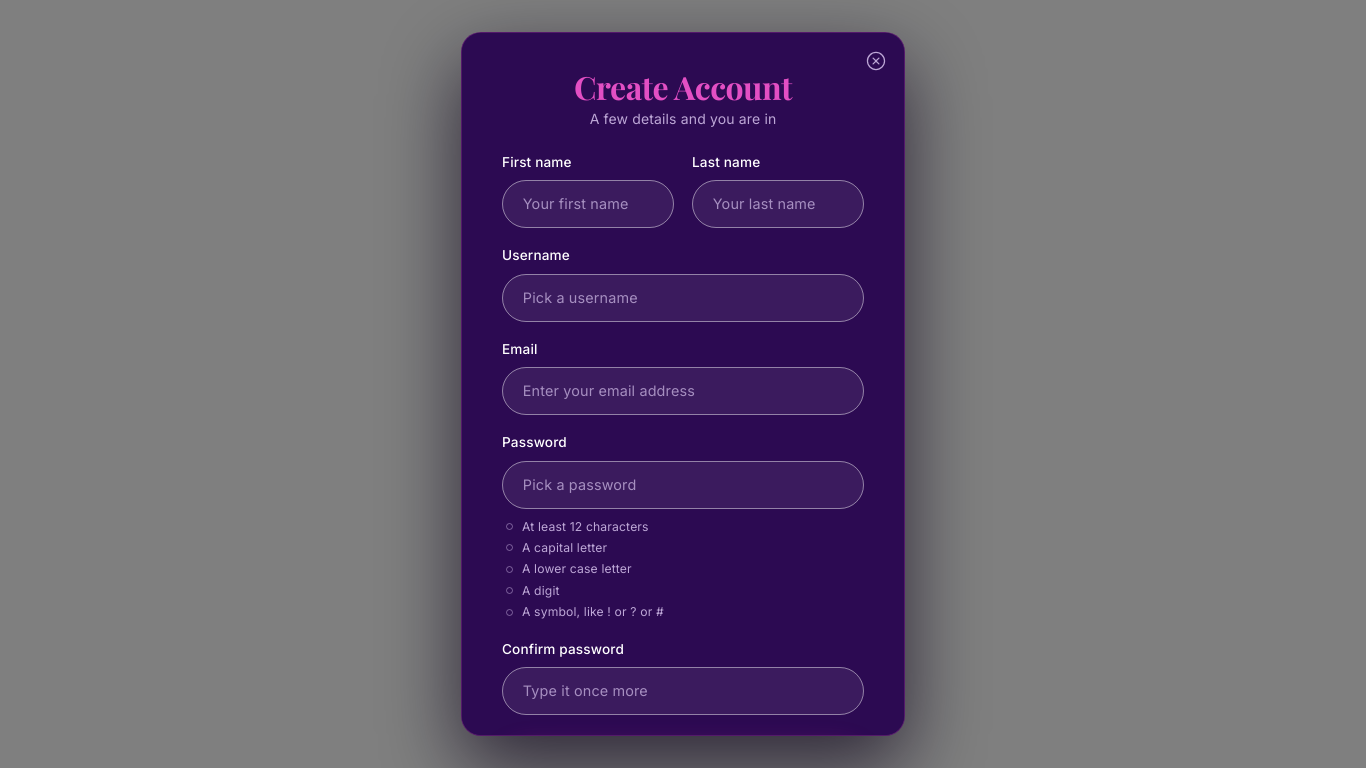
Test case: what it refuses to send › takes back what it said about a box once it is being typed in
Type "Marcus" into the field labelled "First name" at point(588, 204), box [502,180,674,228]
Type "Wright" into the field labelled "Last name" at point(778, 204), box [692,180,864,228]
Type "me" into the field labelled "Username" at point(683, 298), box [502,274,864,322]
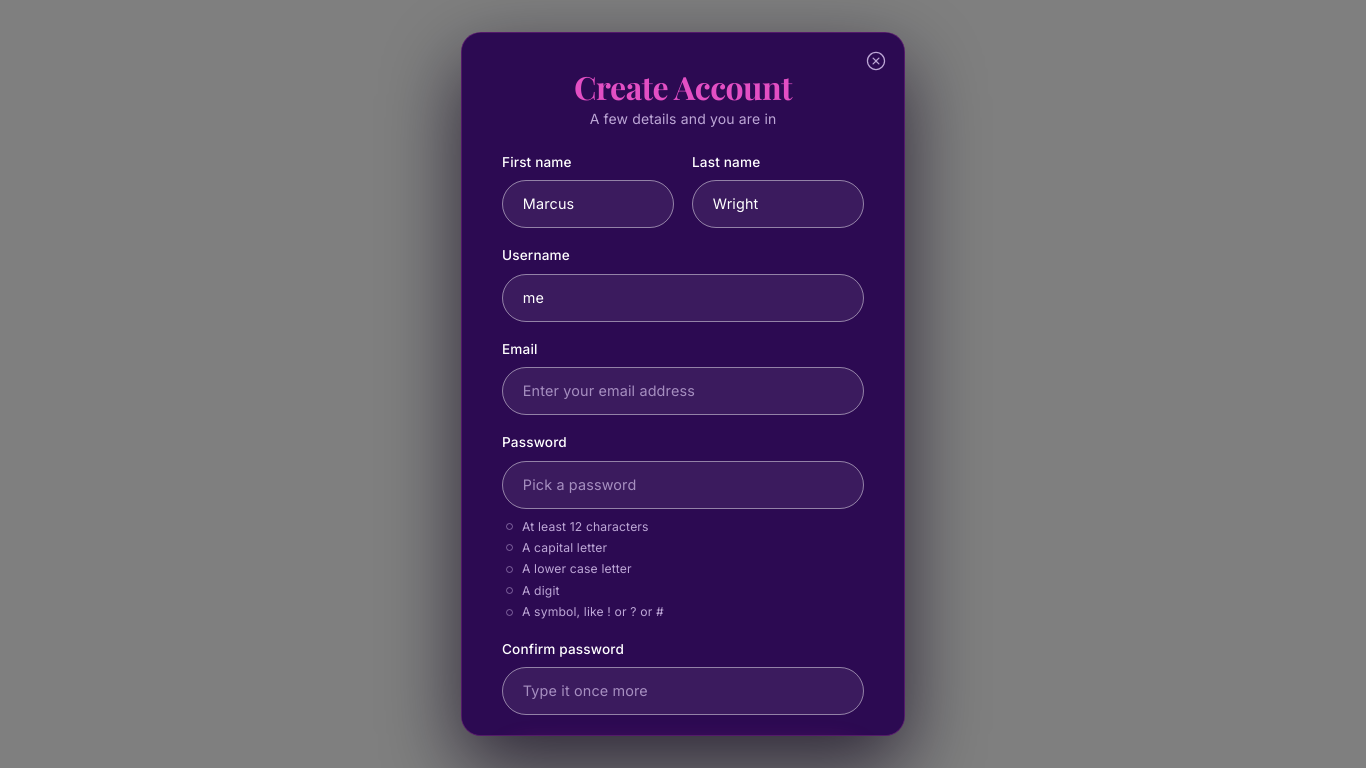
Type "marcus@example.test" into the field labelled "Email" at point(683, 391), box [502,367,864,415]
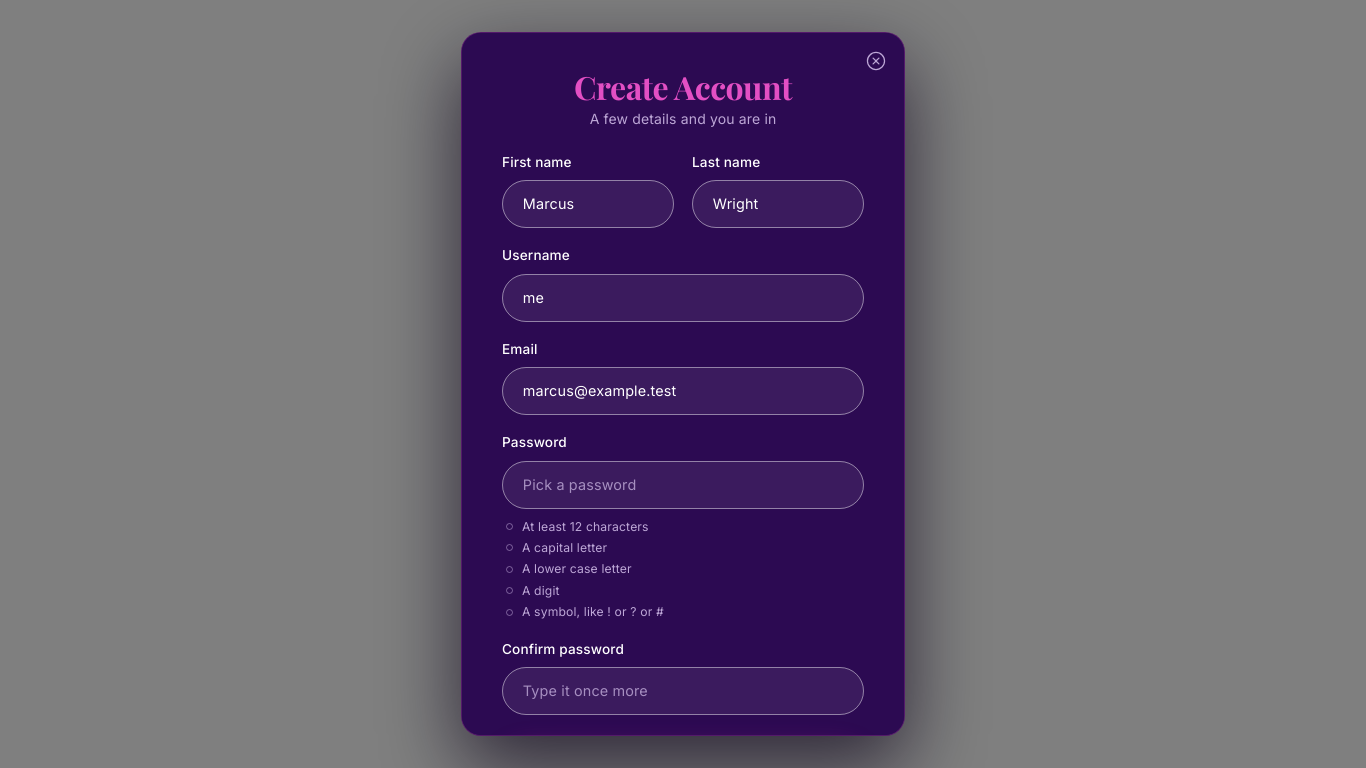
Type "Trombone-42-Fig" into the password field labelled "Password" at point(683, 485), box [502,461,864,509]
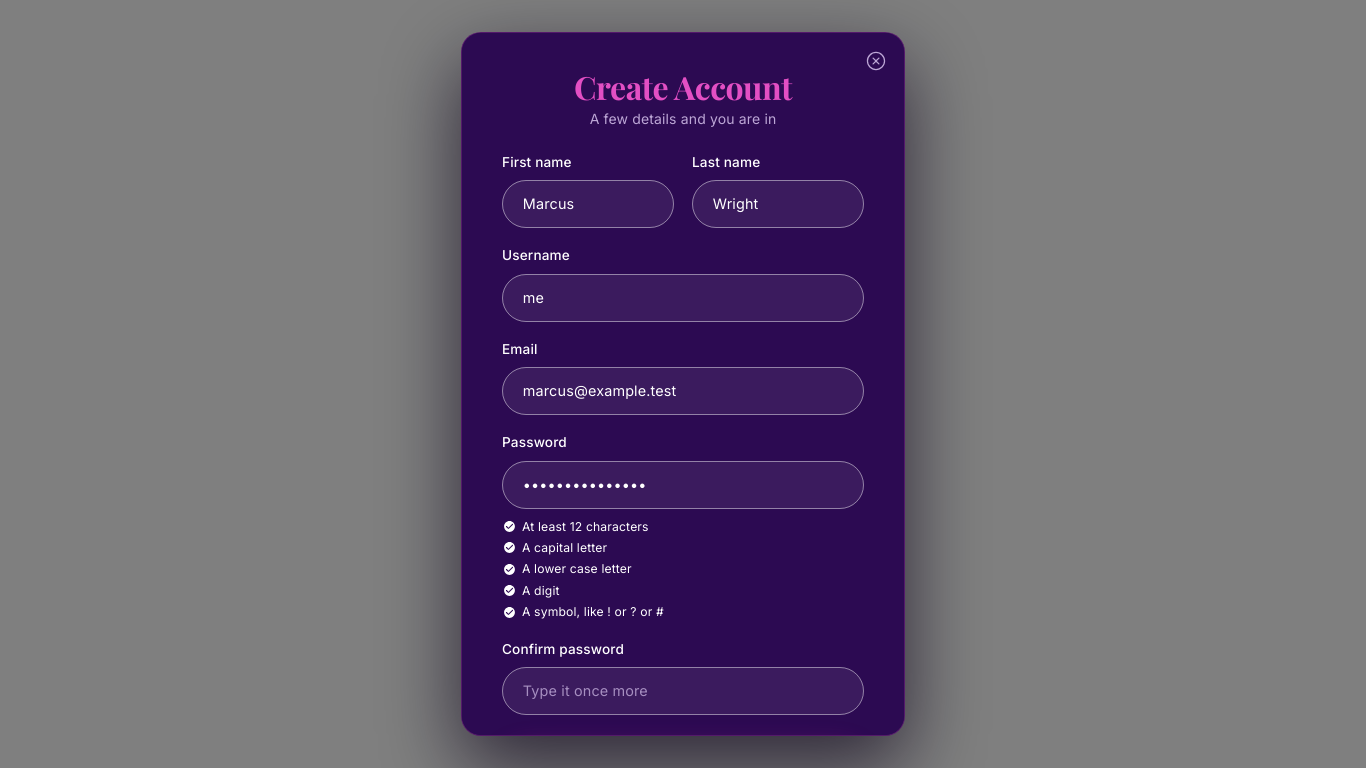
Type "Trombone-42-Fig" into the password field labelled "Confirm password" at point(683, 691), box [502,667,864,715]
(page scrolled)
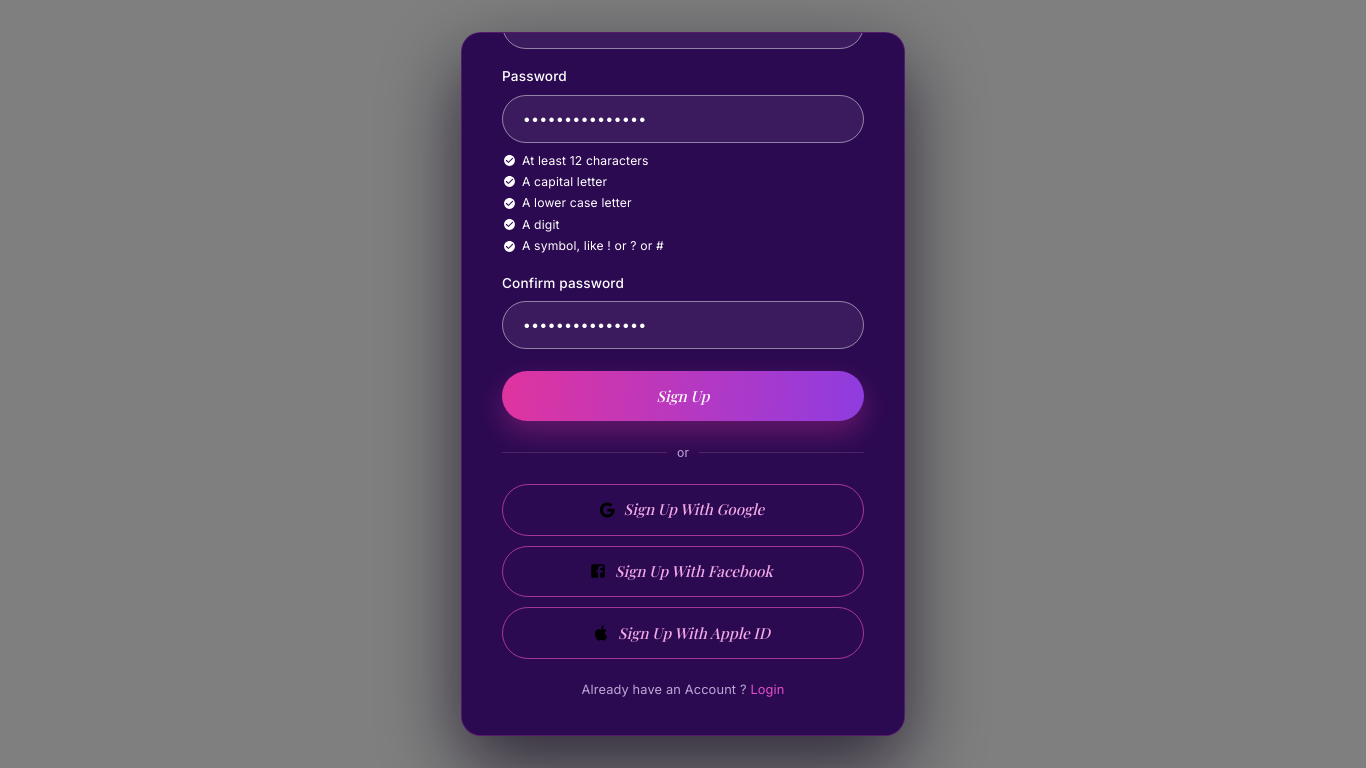
Click the button "Sign Up" at point(683, 396), box [502,371,864,421]
(page scrolled)
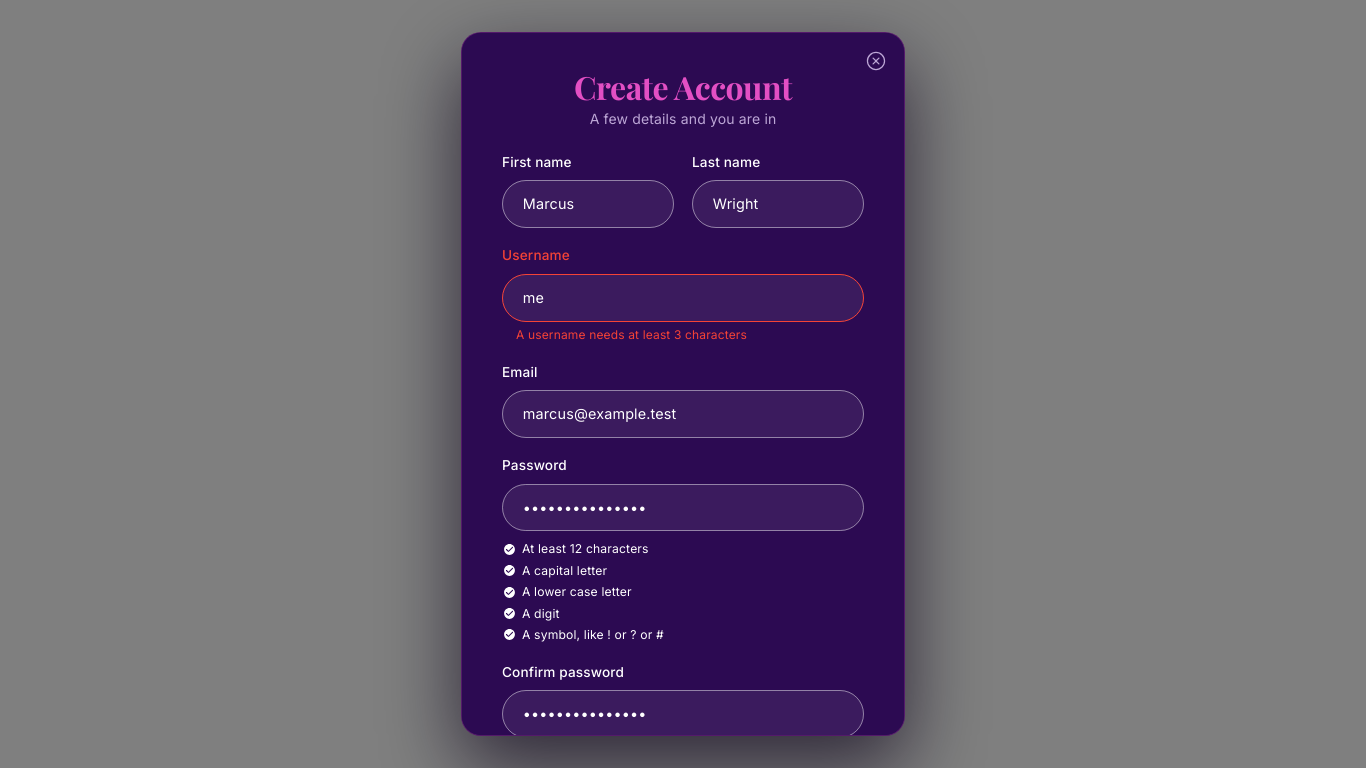
Result: the text "A username needs at least 3 characters" is shown at [516,327,747,342]
Replace the text in the field labelled "Username" with "marcus" at point(683, 298), box [502,274,864,322]
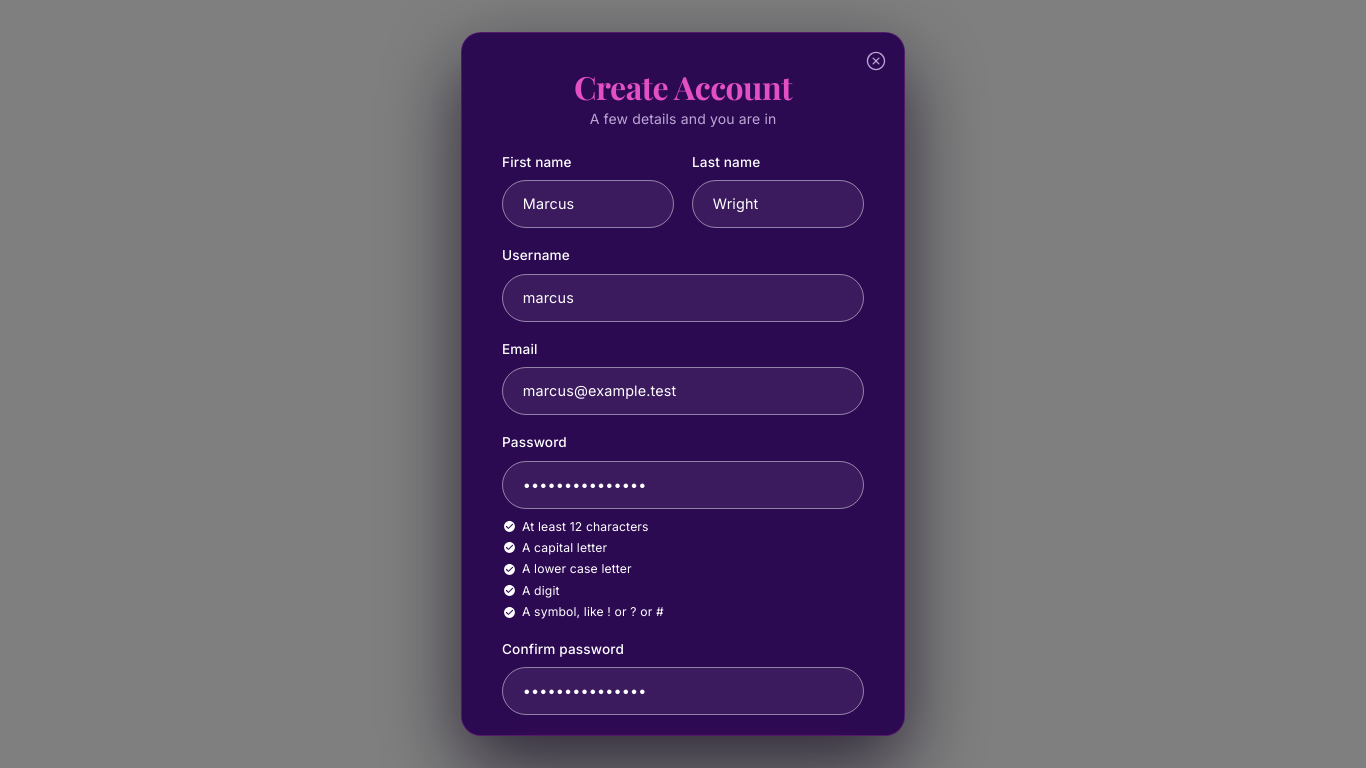
Result: the text "at least 3 characters" is gone
